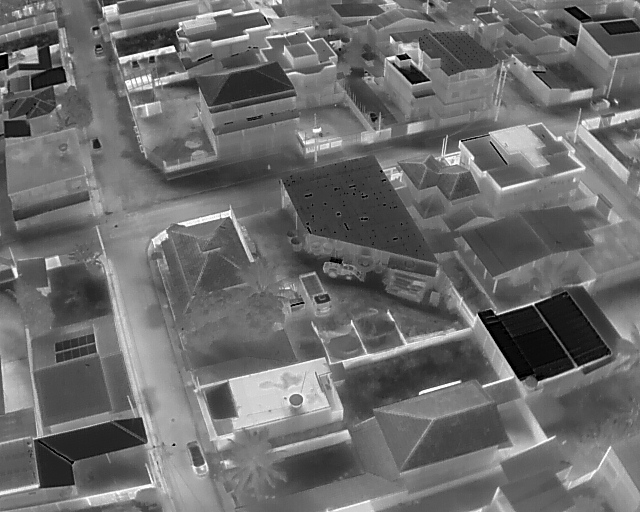car: (188, 437, 206, 479), (366, 105, 384, 130), (86, 132, 104, 155), (589, 97, 610, 112), (127, 55, 143, 74), (88, 23, 104, 41), (91, 42, 107, 60), (145, 52, 161, 69), (422, 0, 437, 16)
person: (611, 95, 621, 107)
truck: (305, 267, 328, 316), (332, 245, 355, 292), (281, 270, 300, 315)
